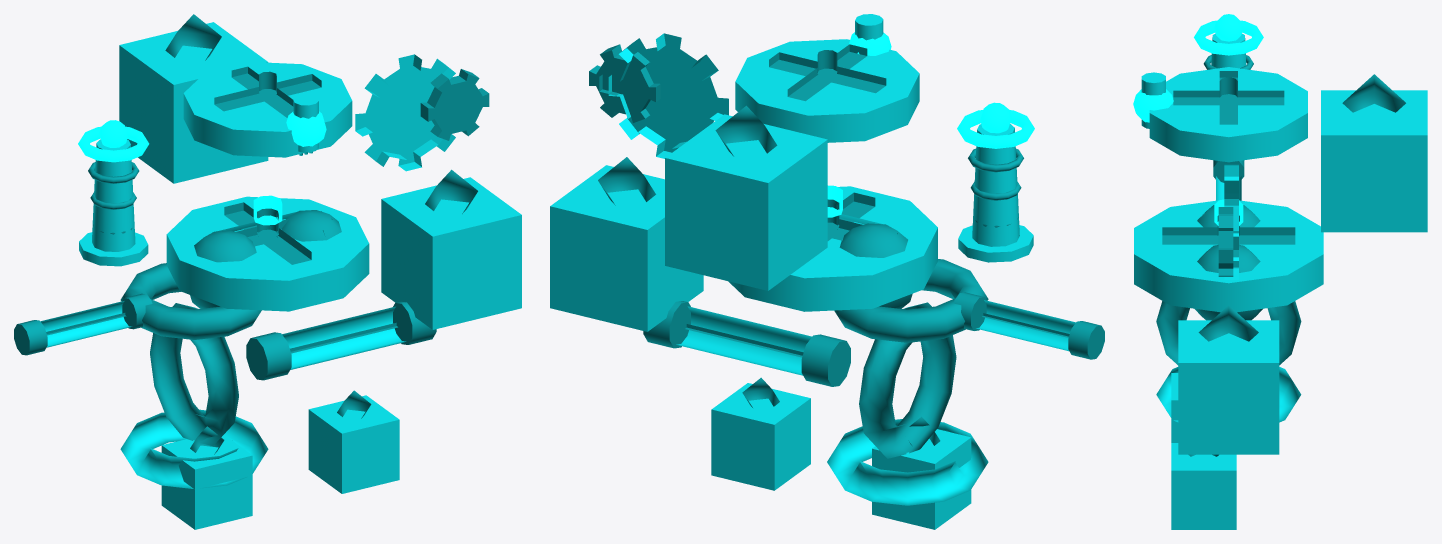
Rendered from golem_041.glb.
3 views of the same model, side by side, from view 1: azimuth 30°, elevation 25°; view 2: azimuth 150°, elevation 25°; view 3: azimuth 270°, elevation 25° (orthographic). The views are drawn at different scales.
Visible parts, largest first — view 1: Body, Detail, Glow; view 2: Body, Detail, Glow; view 3: Body, Detail, Glow.
Boxes of the visible parts, bbox=[...] form: Body: bbox=[40, 22, 521, 529]; Detail: bbox=[14, 14, 489, 454]; Glow: bbox=[78, 111, 326, 225]; Body: bbox=[550, 14, 1075, 529]; Detail: bbox=[589, 44, 1104, 458]; Glow: bbox=[827, 32, 1034, 217]; Body: bbox=[1134, 33, 1427, 529]; Detail: bbox=[1156, 55, 1405, 456]; Glow: bbox=[1133, 14, 1263, 225].
Size of the model in its own units: 1.41 by 1.18 by 0.7723.
